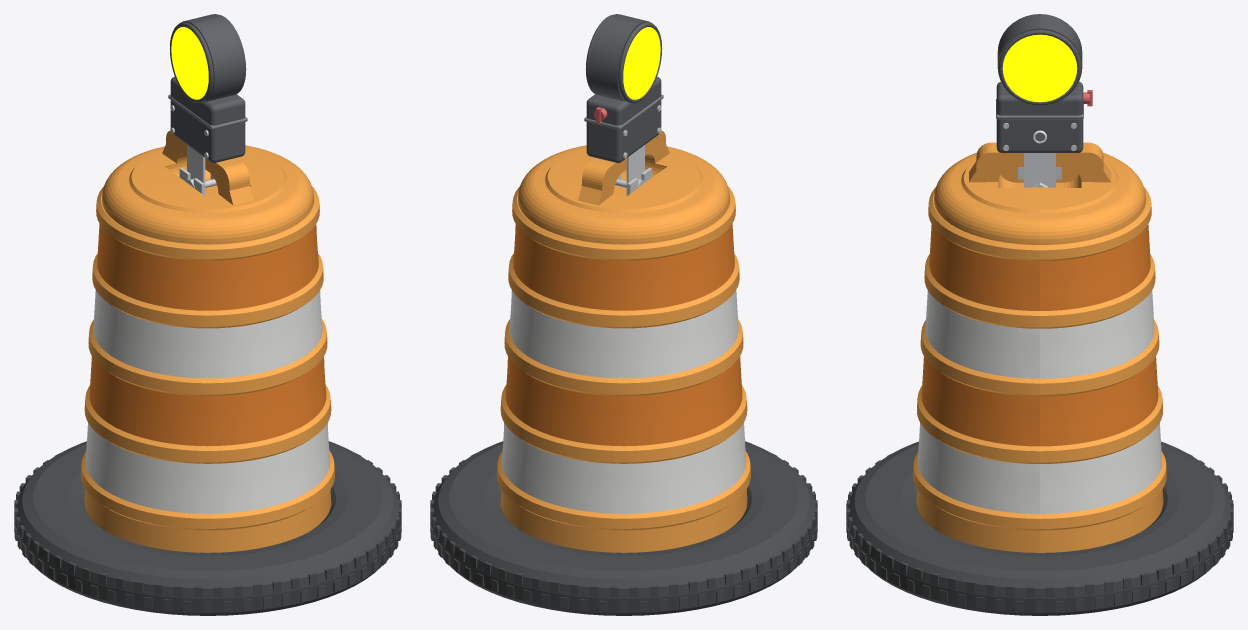
File: Traffic_Drum_Channelizer.glb
3 views of the same model, side by side, from view 1: azimuth 30°, elevation 25°; view 2: azimuth 150°, elevation 25°; view 3: azimuth 270°, elevation 25° (orthographic).
Parts seen in each view (by area): view 1: drum_body, ballast_ring, stripe_2_white, stripe_1_orange, light_case, amber_lens, light_clamp; view 2: drum_body, ballast_ring, stripe_2_white, stripe_1_orange, light_case, amber_lens, light_clamp; view 3: drum_body, ballast_ring, stripe_2_white, stripe_1_orange, light_case, amber_lens, light_clamp.
Boxes of the visible parts, x1,y1,x2,y2 form: drum_body: (81,130,334,552); ballast_ring: (14,441,401,615); stripe_2_white: (85,290,330,513); stripe_1_orange: (89,223,326,446); light_case: (170,14,246,162); amber_lens: (171,27,208,99); light_clamp: (187,145,214,195); drum_body: (497,130,750,552); ballast_ring: (430,441,817,615); stripe_2_white: (501,290,746,513); stripe_1_orange: (505,223,742,446); light_case: (585,14,662,162); amber_lens: (623,27,660,99); light_clamp: (617,145,644,195); drum_body: (913,142,1166,552); ballast_ring: (846,441,1233,615); stripe_2_white: (918,130,1161,513); stripe_1_orange: (921,224,1158,446); light_case: (996,14,1083,152); amber_lens: (1002,34,1077,102); light_clamp: (1024,153,1055,187).
Bounding box in the file's own units: 18.28 × 26.86 × 18.28.
